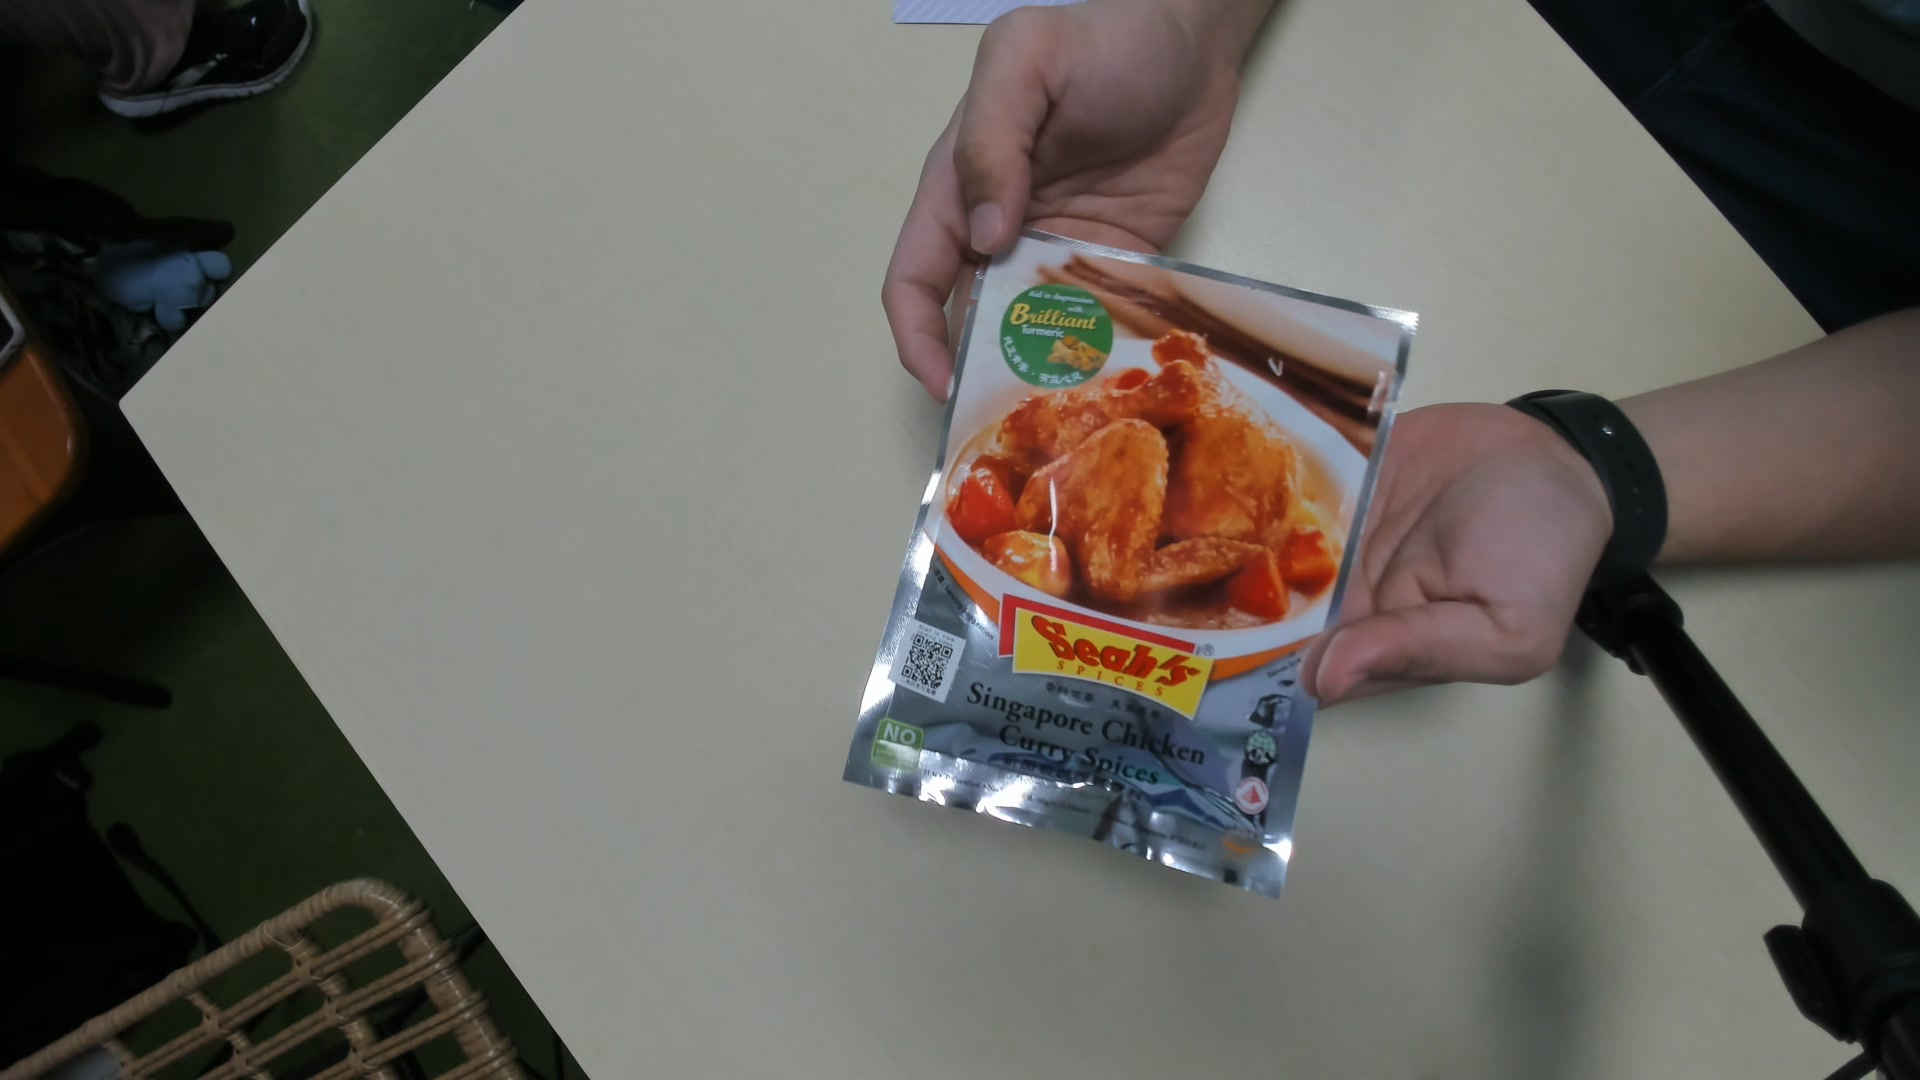CurryPastePowderSauce_0-99g_Halal_Healthy: (855, 227, 1427, 899)
